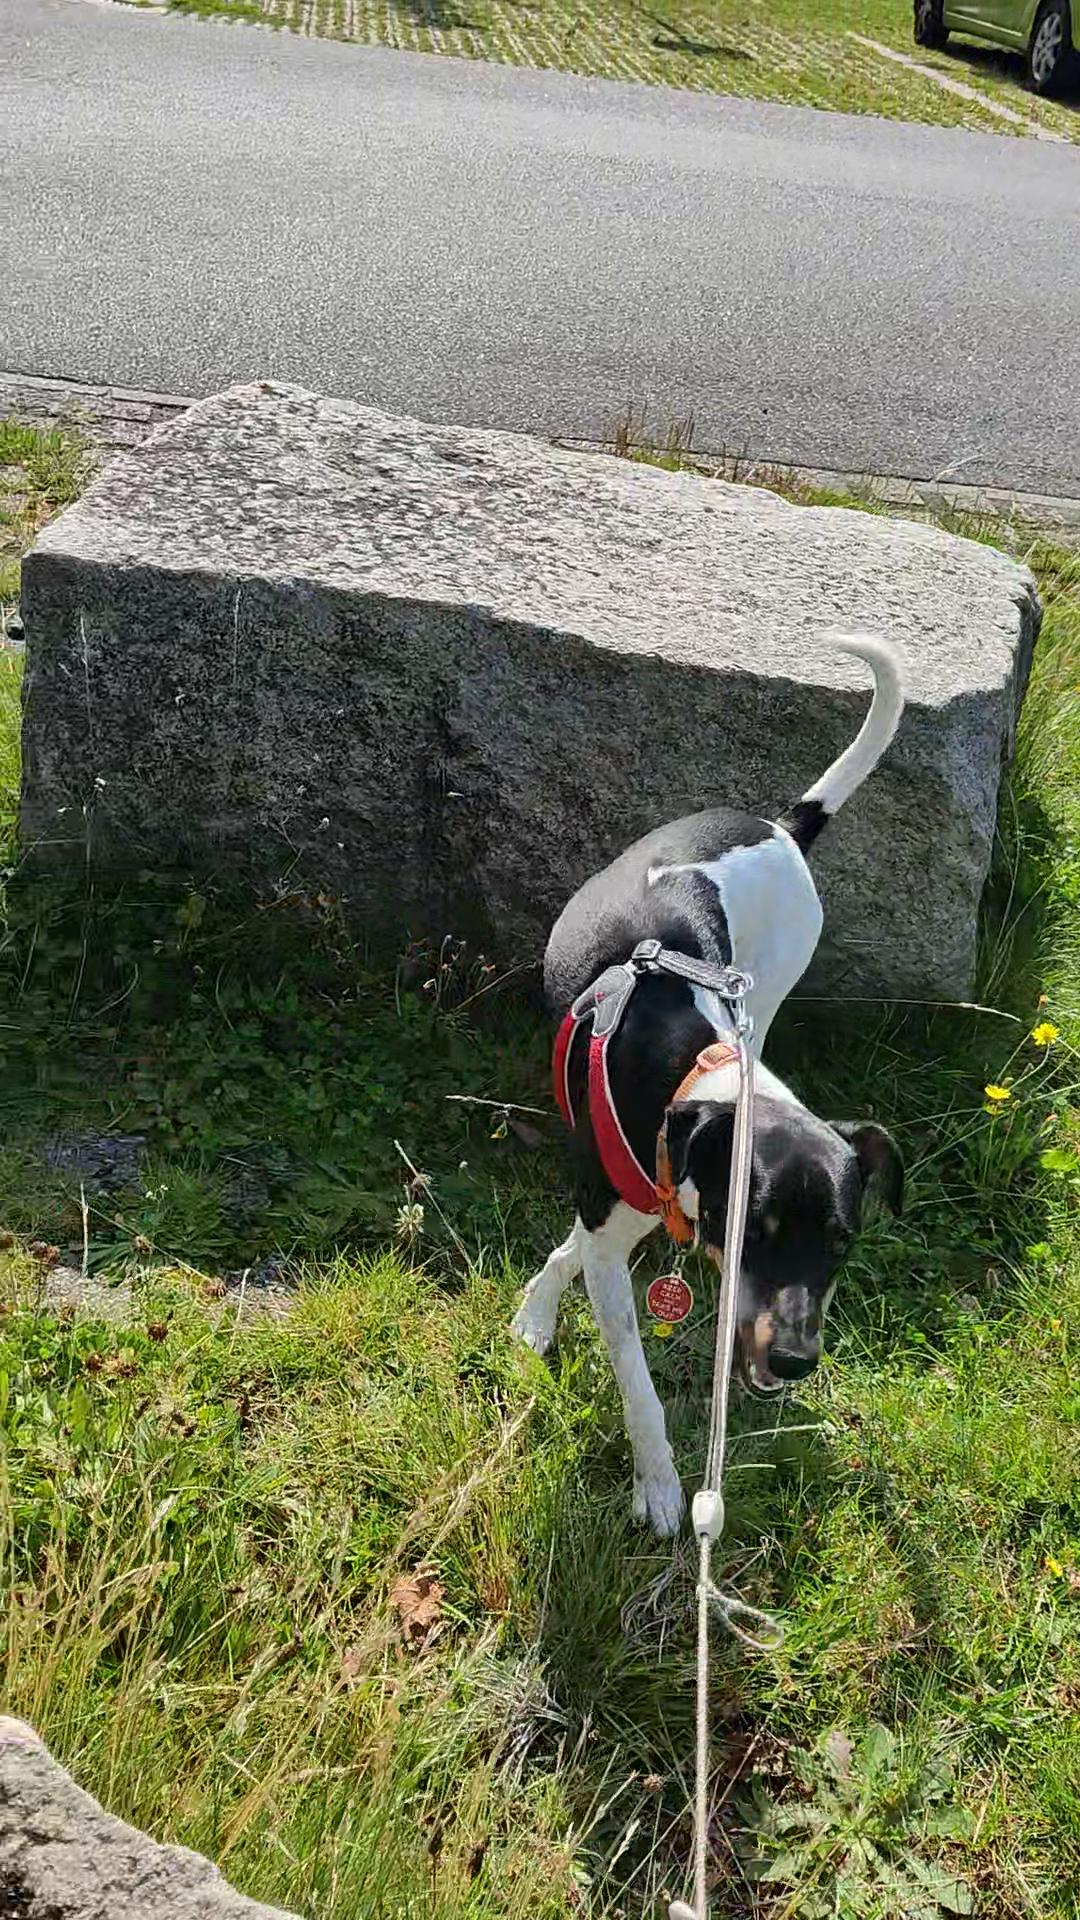Dog: (465, 617, 927, 1576)
